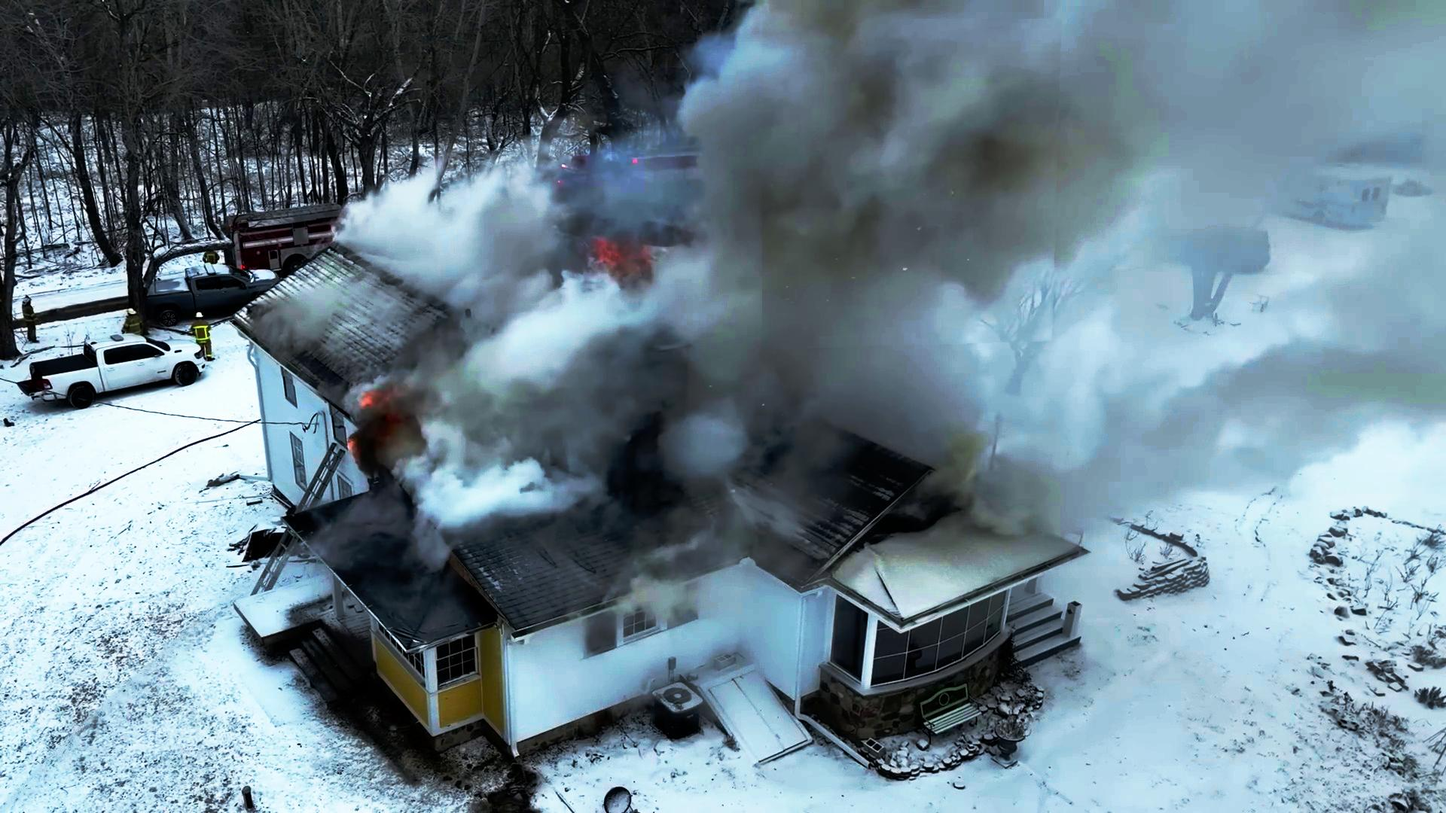smoke: (763, 19, 1064, 350)
